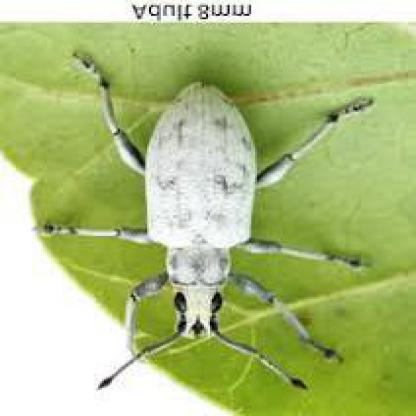ash weevil: (37, 59, 366, 351)
